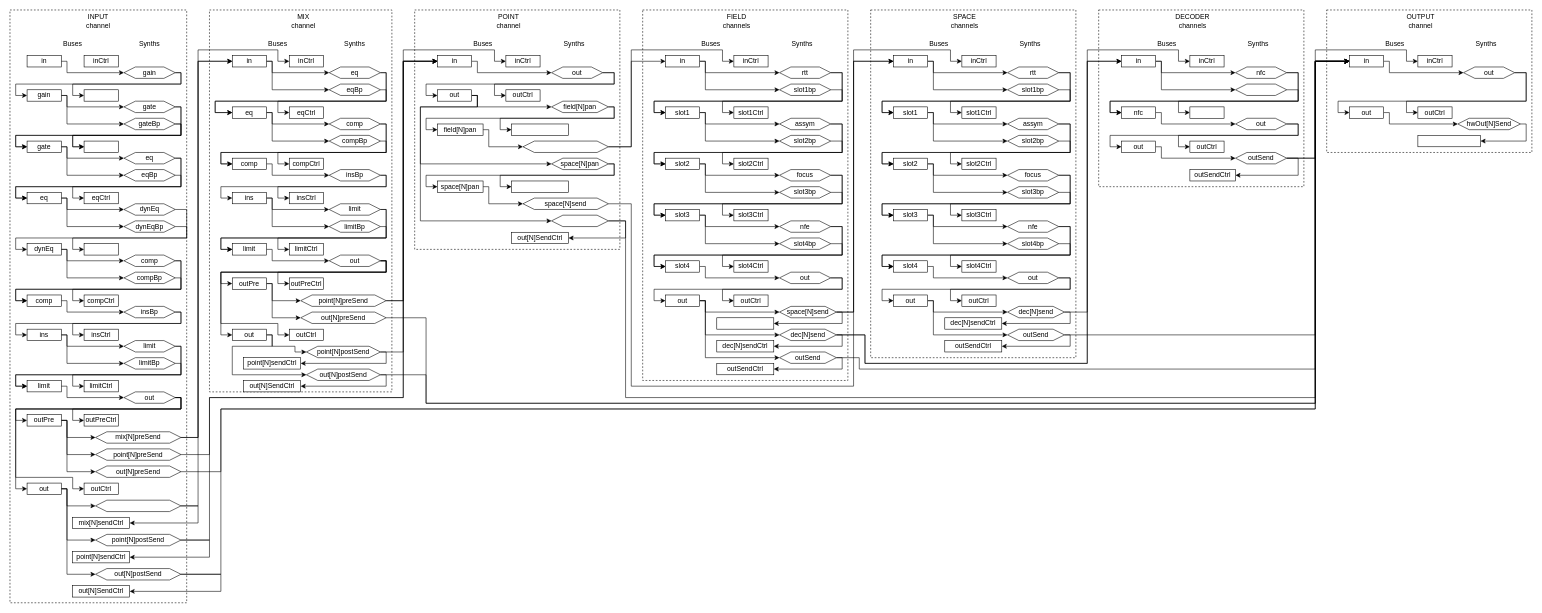
This 1542x613 diagram has some shape labels left out. The box of each missing label's shape, as (x1, y1, x2, y2) in pixels:
dynEqCtrl: (84, 243, 118, 255)
field[N]panCtrl: (511, 123, 569, 135)
field[N]send: (522, 141, 608, 152)
gainCtrl: (84, 89, 118, 101)
gateCtrl: (84, 141, 118, 152)
hwOut[N]SendCtrl: (1417, 135, 1481, 147)
mix[N]postSend: (95, 500, 181, 512)
nfcBp: (1235, 84, 1287, 95)
nfcCtrl: (1189, 106, 1224, 118)
out[N]send: (551, 215, 608, 227)
space[N]panCtrl: (511, 180, 569, 192)
space[N]sendCtrl: (716, 317, 774, 329)
